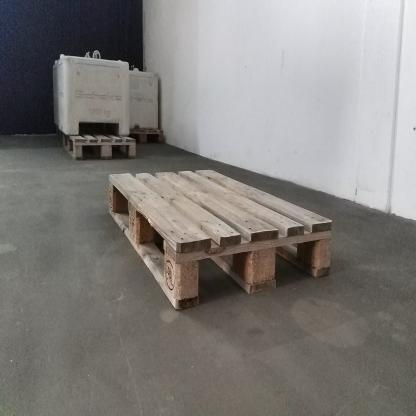BoxFace: (104, 164, 337, 317)
